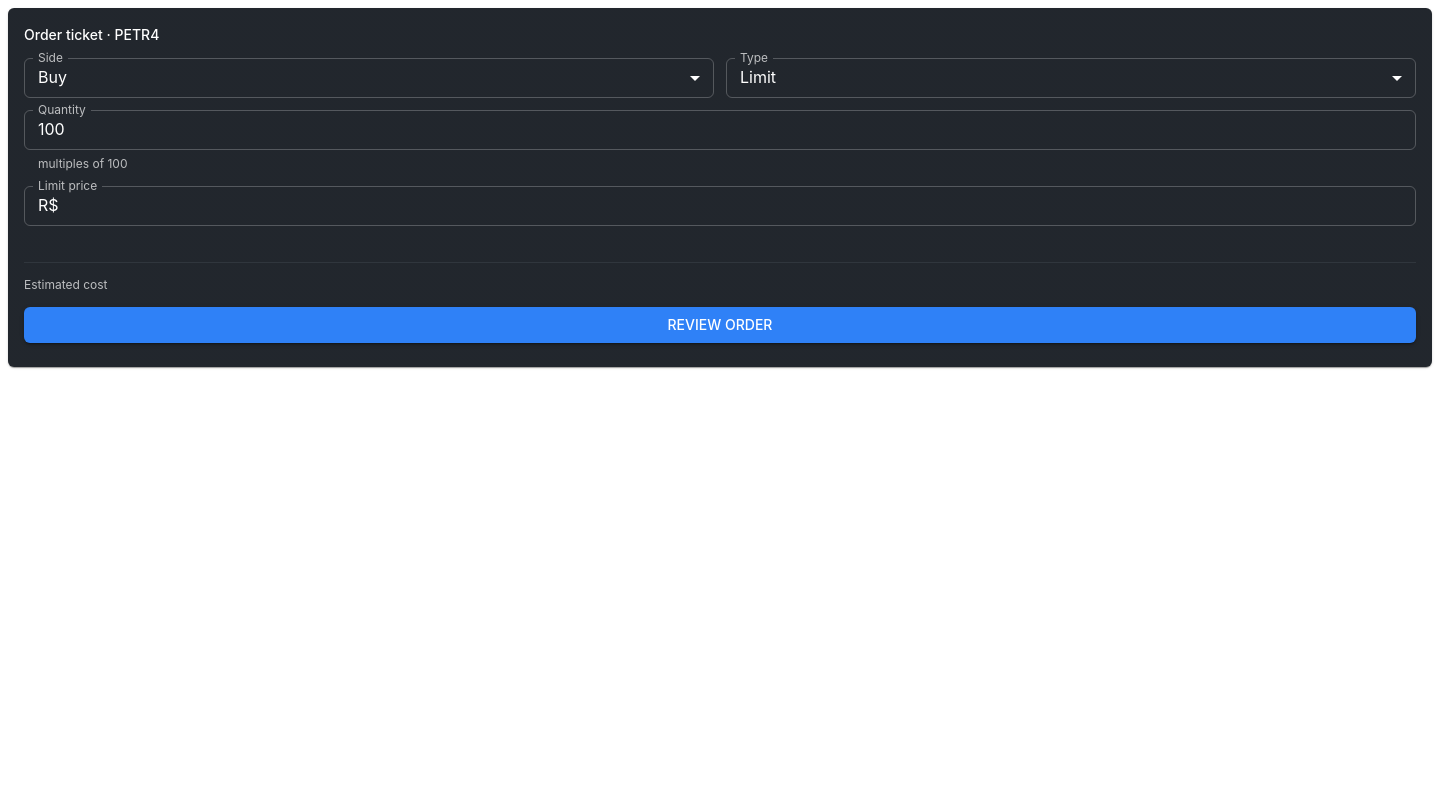
it: submitting › reports the order once it is accepted
Type "3850" into the field labelled "Limit price" at point(741, 206), box [67,186,1416,226]
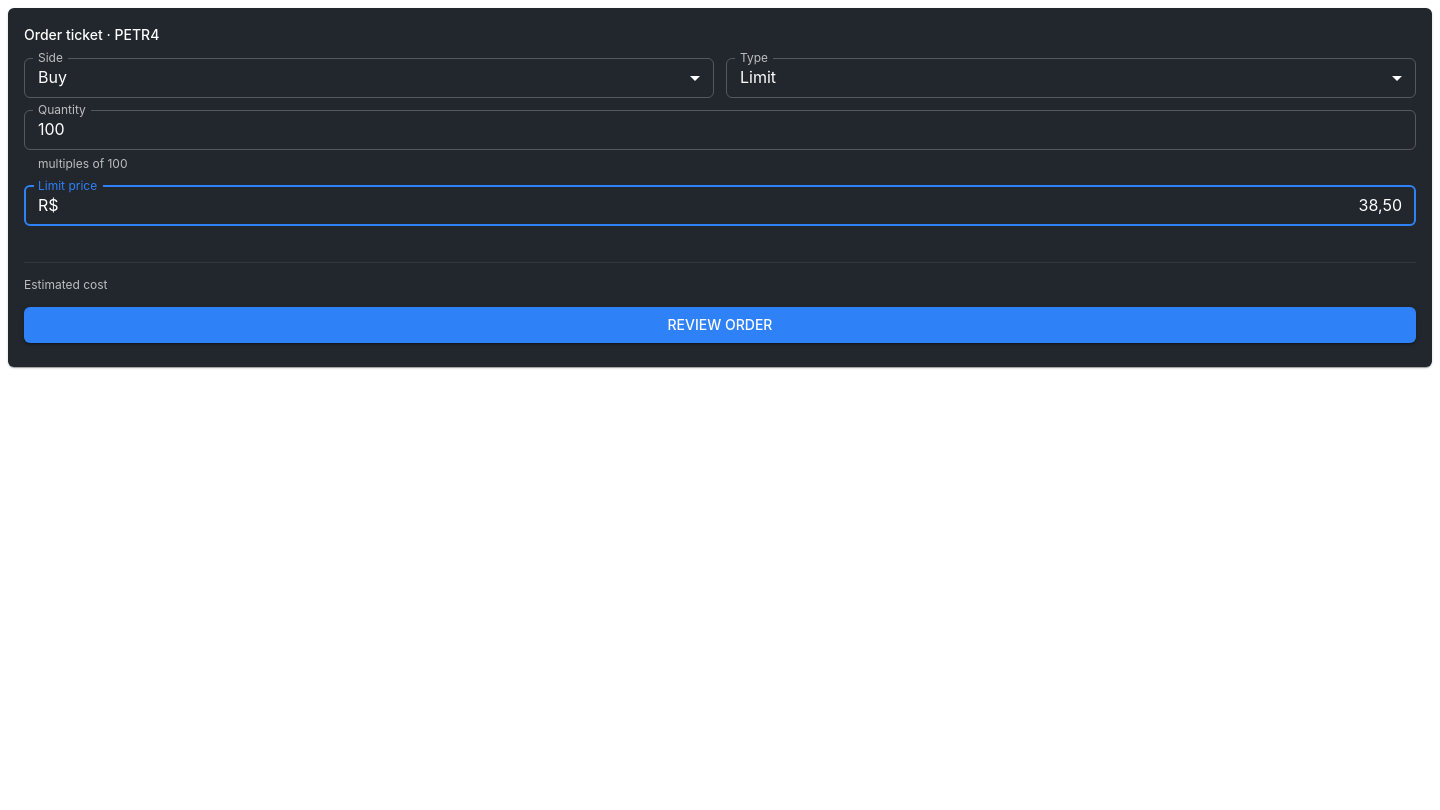
Click the button "Review order" at point(720, 325), box [24,307,1416,343]
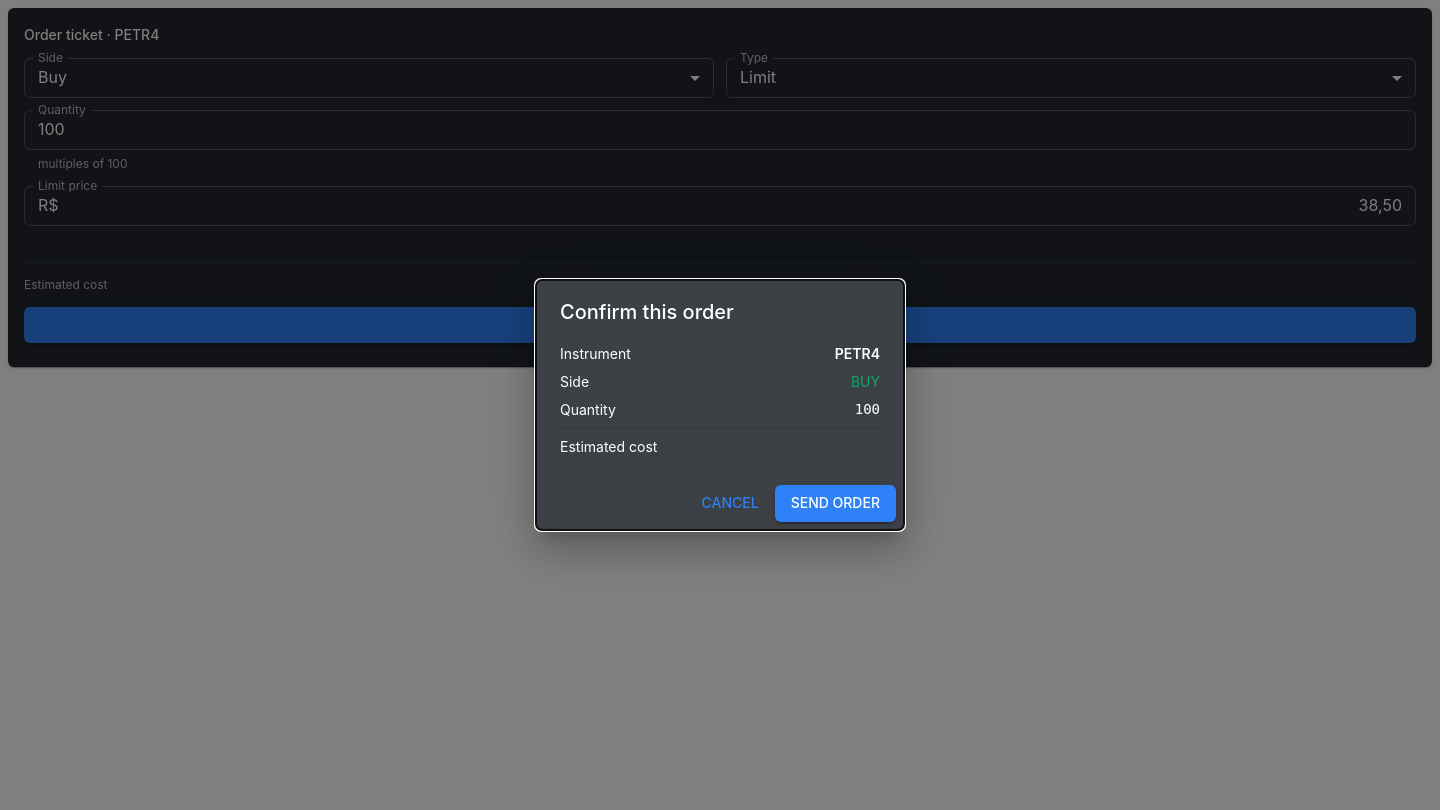
Click the button "Send order" at point(835, 504), box [775,485,896,522]
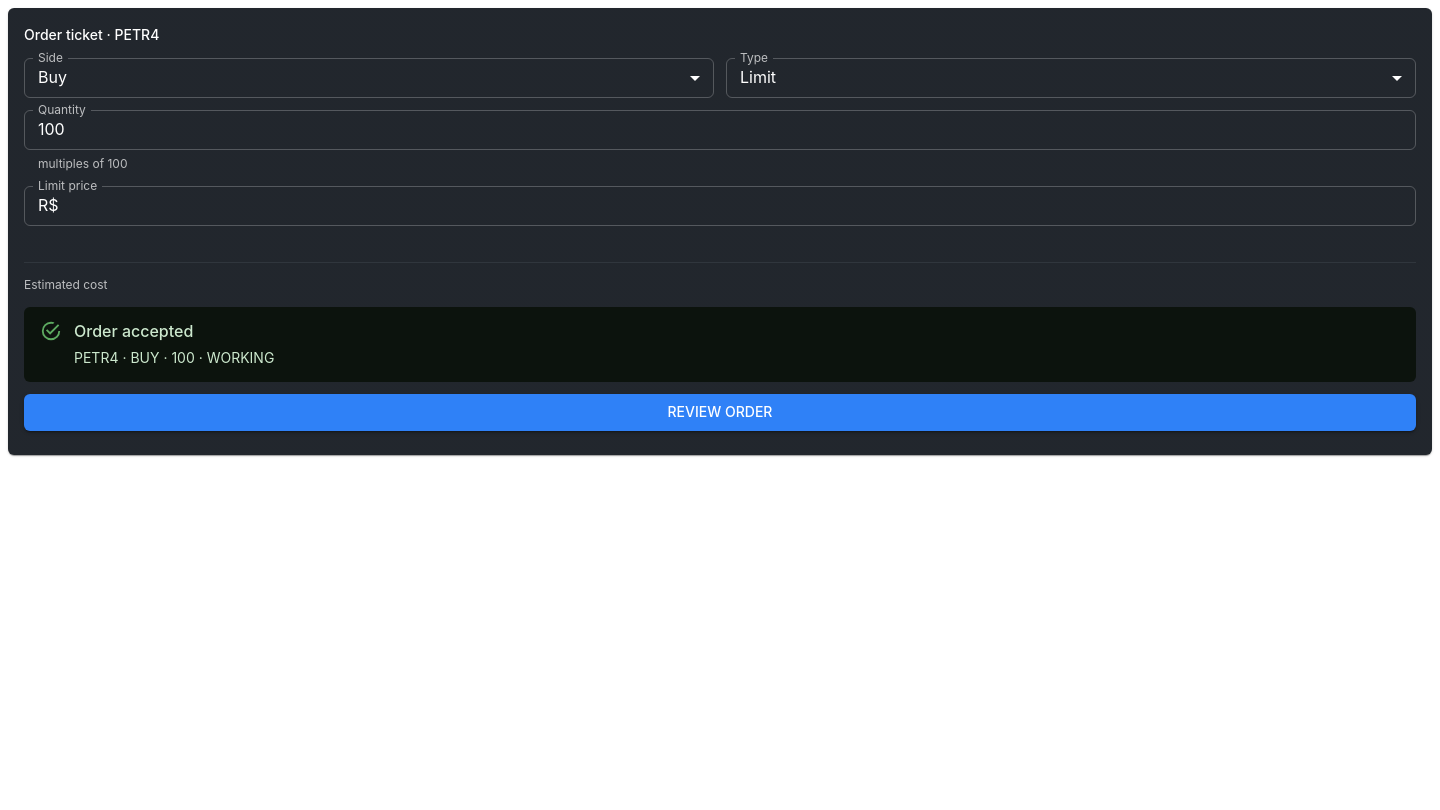
expect the text "Order accepted" is shown: met, box [74,321,193,341]
